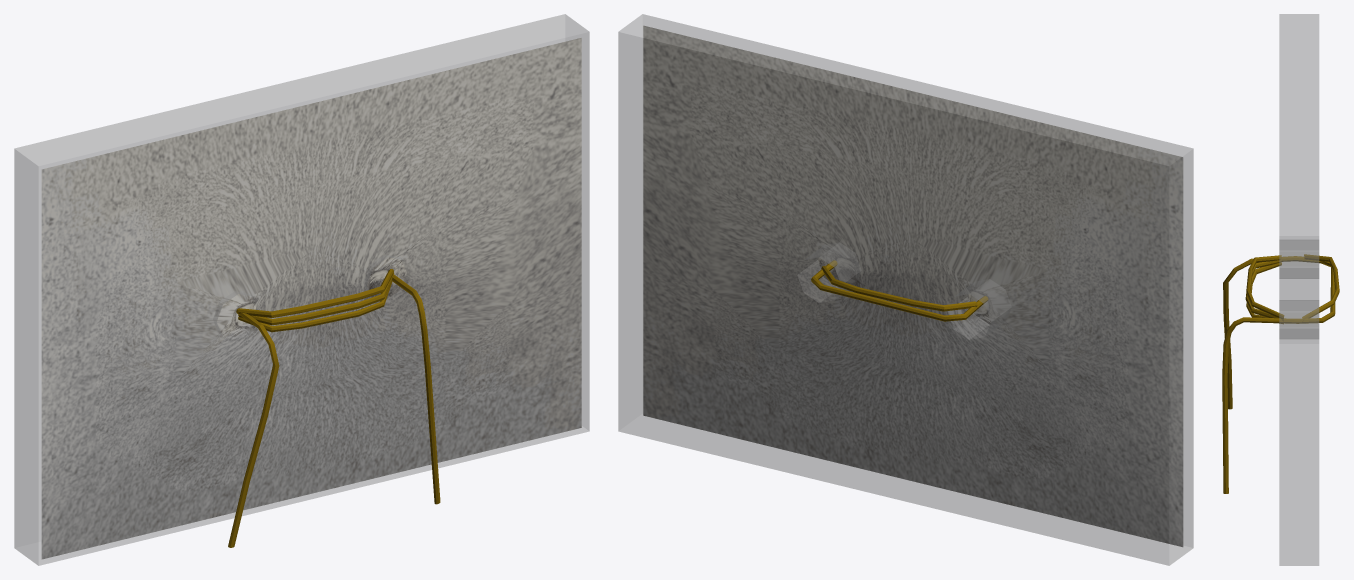
Rendered from MF of coil.fbx.
3 views of the same model, side by side, from view 1: azimuth 30°, elevation 25°; view 2: azimuth 150°, elevation 25°; view 3: azimuth 270°, elevation 25° (orthographic). The views are drawn at different scales.
Visible parts, largest first — view 1: Glass1, Feild_lines, Wire1; view 2: Glass1, Feild_lines, Wire1; view 3: Glass1, Wire1.
Boxes of the visible parts, left/top/right/bottom form: Glass1: left=14, top=14, right=589, bottom=565; Feild_lines: left=41, top=38, right=581, bottom=559; Wire1: left=228, top=269, right=440, bottom=547; Glass1: left=618, top=14, right=1193, bottom=565; Feild_lines: left=643, top=25, right=1183, bottom=547; Wire1: left=811, top=260, right=988, bottom=321; Glass1: left=1279, top=14, right=1319, bottom=565; Wire1: left=1222, top=254, right=1339, bottom=493.
Size of the model in its own units: 722 by 505 by 162.
Materials: 4 (2 with a texture image).
